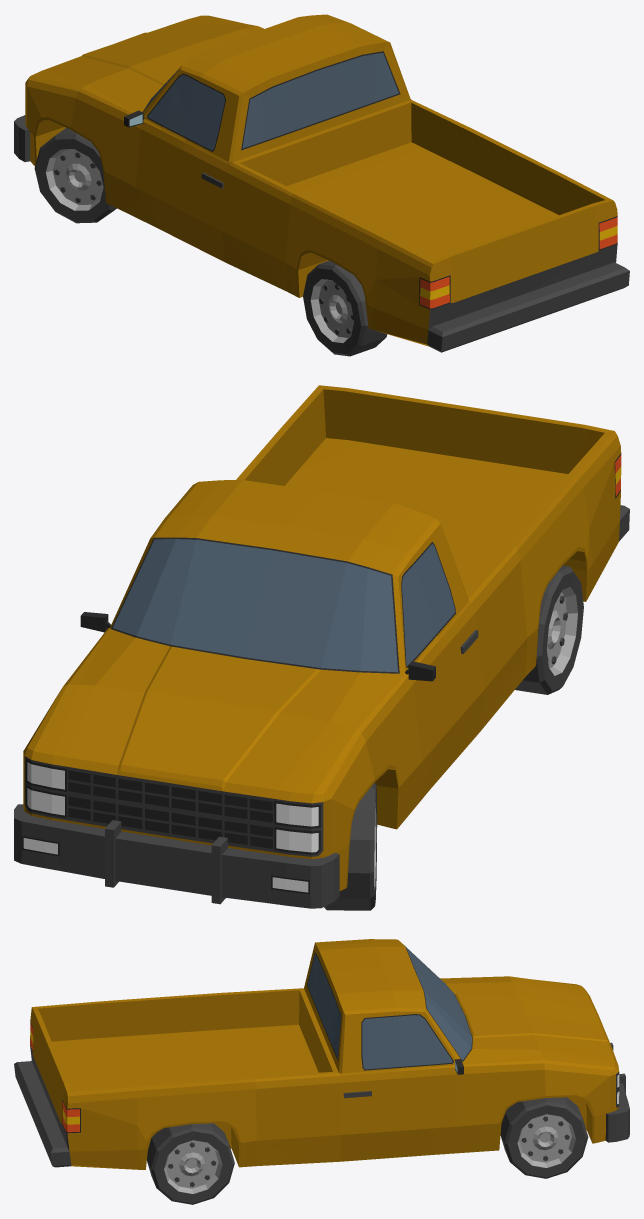
Rendered from abandoned_pickup.glb.
3 views of the same model, one above another, from view 1: azimuth 30°, elevation 25°; view 2: azimuth 150°, elevation 25°; view 3: azimuth 270°, elevation 25° (orthographic). The views are drawn at different scales.
Visible parts, largest first — view 1: Pick Up_11, Pick Up_11 FL Tire, Pick Up_11 BL Tire; view 2: Pick Up_11, Pick Up_11 BL Tire, Pick Up_11 FL Tire; view 3: Pick Up_11, Pick Up_11 BR Tire, Pick Up_11 FR Tire.
Part boxes in pixels (x1,y1,x2,y2): Pick Up_11: (14, 14, 629, 352); Pick Up_11 FL Tire: (34, 128, 116, 223); Pick Up_11 BL Tire: (303, 260, 387, 356); Pick Up_11: (14, 385, 629, 908); Pick Up_11 BL Tire: (515, 565, 583, 694); Pick Up_11 FL Tire: (324, 783, 377, 910); Pick Up_11: (14, 939, 629, 1169); Pick Up_11 BR Tire: (147, 1123, 234, 1204); Pick Up_11 FR Tire: (500, 1097, 588, 1178).
Size of the model in its own units: 2.29 by 1.39 by 4.4.
2 materials, 2 textured.
